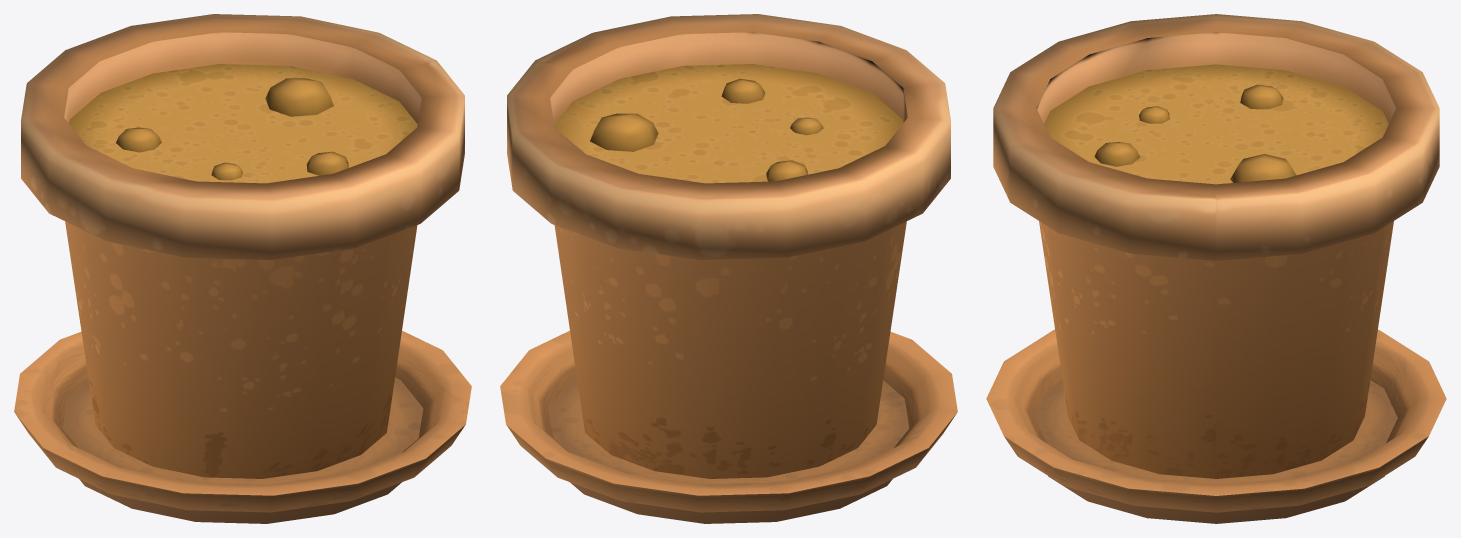
The model's file is Maceta.fbx.
The picture shows the model from 3 angles, left to right: view 1: azimuth 30°, elevation 25°; view 2: azimuth 150°, elevation 25°; view 3: azimuth 270°, elevation 25°; orthographic projection.
Visible parts, largest first — view 1: Maceta, Plato, Tierra; view 2: Maceta, Plato, Tierra; view 3: Maceta, Plato, Tierra.
Boxes of the visible parts, x1,y1,x2,y2 form: Maceta: (21, 14, 464, 478); Plato: (14, 330, 471, 523); Tierra: (69, 64, 417, 183); Maceta: (507, 14, 950, 478); Plato: (500, 330, 957, 523); Tierra: (554, 64, 903, 183); Maceta: (993, 14, 1439, 478); Plato: (986, 329, 1446, 523); Tierra: (1044, 64, 1388, 184).
Bounding box in the file's own units: 310 × 252 × 310.
